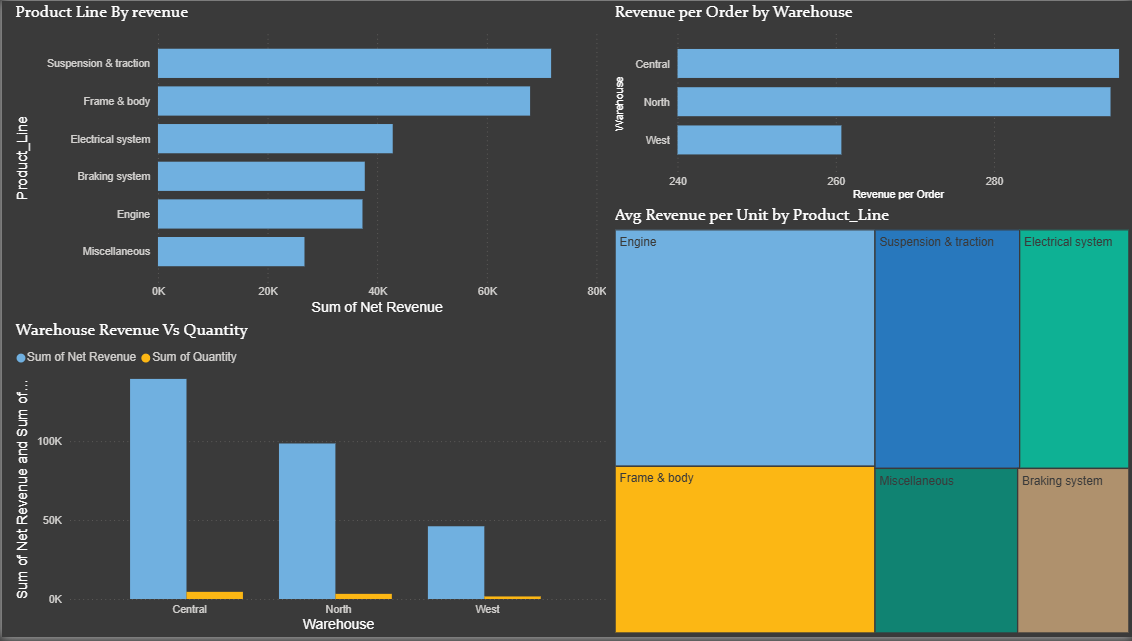

What the dashboard file says about the page in this screenshot:
{"tool":"powerbi","page":{"name":"Product and Warehouse Performance","canvas":[1280,720],"ordinal":1},"visuals":[{"type":"barChart","title":"Product Line By revenue","fields":{"Category":["sales.Product_Line"],"Y":["Sum(sales.Revenue)"]},"box":[10,0,678.6,360],"z":0},{"type":"clusteredColumnChart","title":"Warehouse Revenue Vs Quantity ","fields":{"Category":["sales.Warehouse"],"Y":["Sum(sales.Revenue)","Sum(sales.Quantity)"]},"box":[10,360,679,360],"z":1000},{"type":"barChart","title":"Revenue per Order by Warehouse","fields":{"Category":["sales.Warehouse"],"Y":["sales.Revenue per Order"]},"box":[688.6,0,591.4,230],"z":2000},{"type":"treemap","fields":{"Group":["sales.Product_Line"],"Values":["sales.Avg Revenue per Unit"]},"box":[688.6,230,591.4,490],"z":3000}]}

Visuals, with their boxes in screenshot pixels (x1, y1, x2, y2), scaled from the page's 1280x720 canvas onto the 1132x641 screenshot:
"Product Line By revenue" barChart: rect(9, 0, 609, 320)
"Warehouse Revenue Vs Quantity " clusteredColumnChart: rect(9, 320, 609, 640)
"Revenue per Order by Warehouse" barChart: rect(609, 0, 1131, 205)
treemap - sales.Product_Line x sales.Avg Revenue per Unit: rect(609, 205, 1131, 640)
